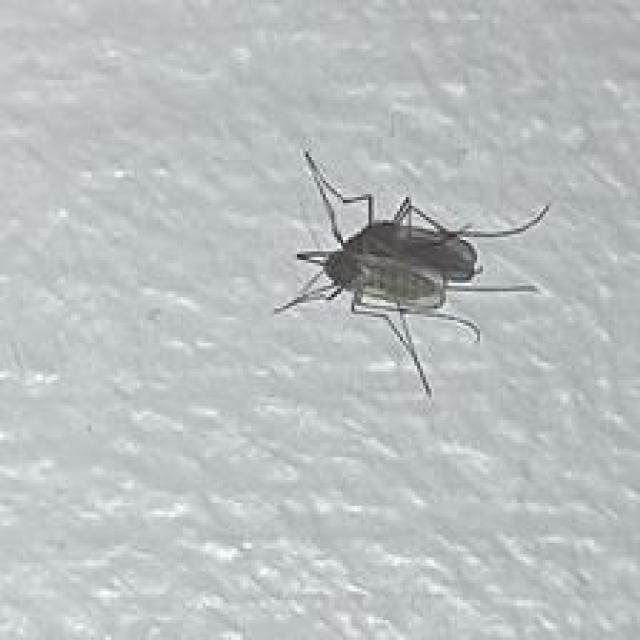Culex: (272, 147, 552, 399)
